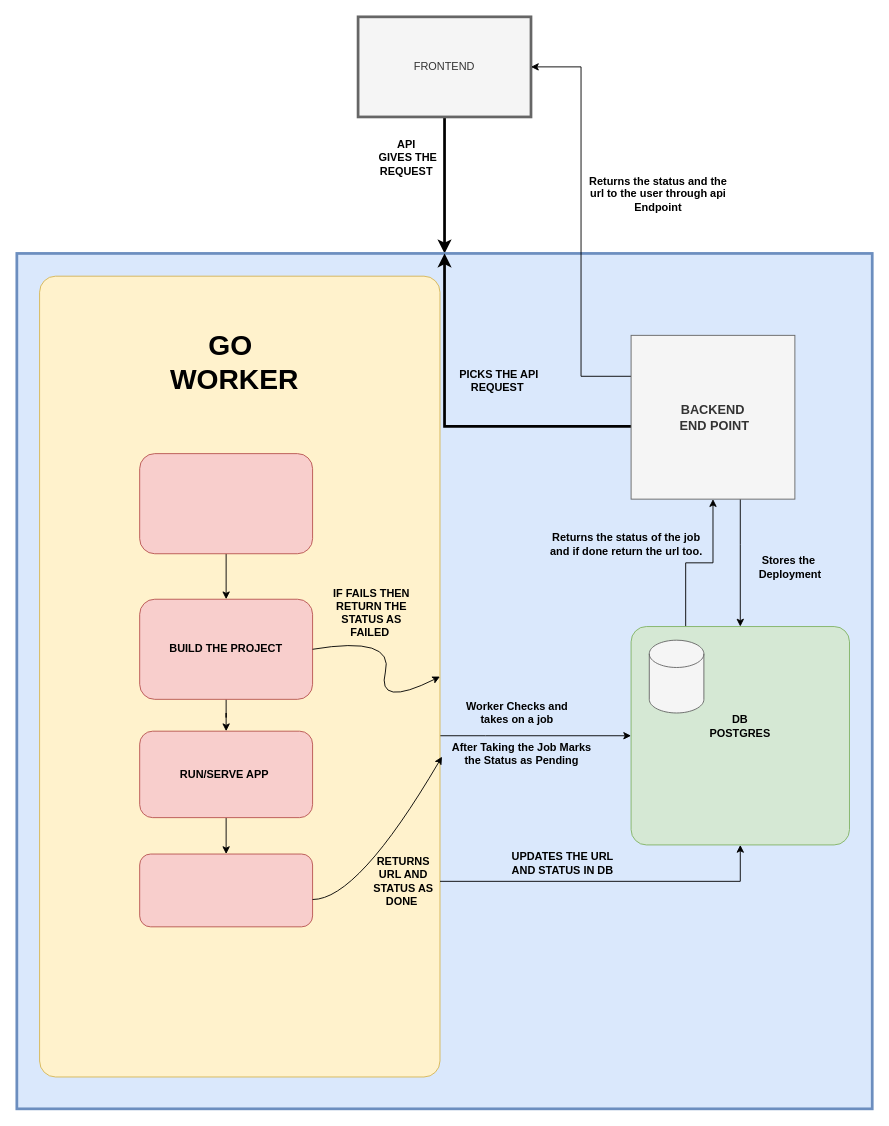
The diagram is 889 pixels wide and 1126 high, and some of its shapes have lost their labels. Here are the shapes that lost their labels. From the top down, the centre of each, then its label:
At point (226, 503): "GIT CLONE REPO".
At point (226, 890): "GENERATE URL".
